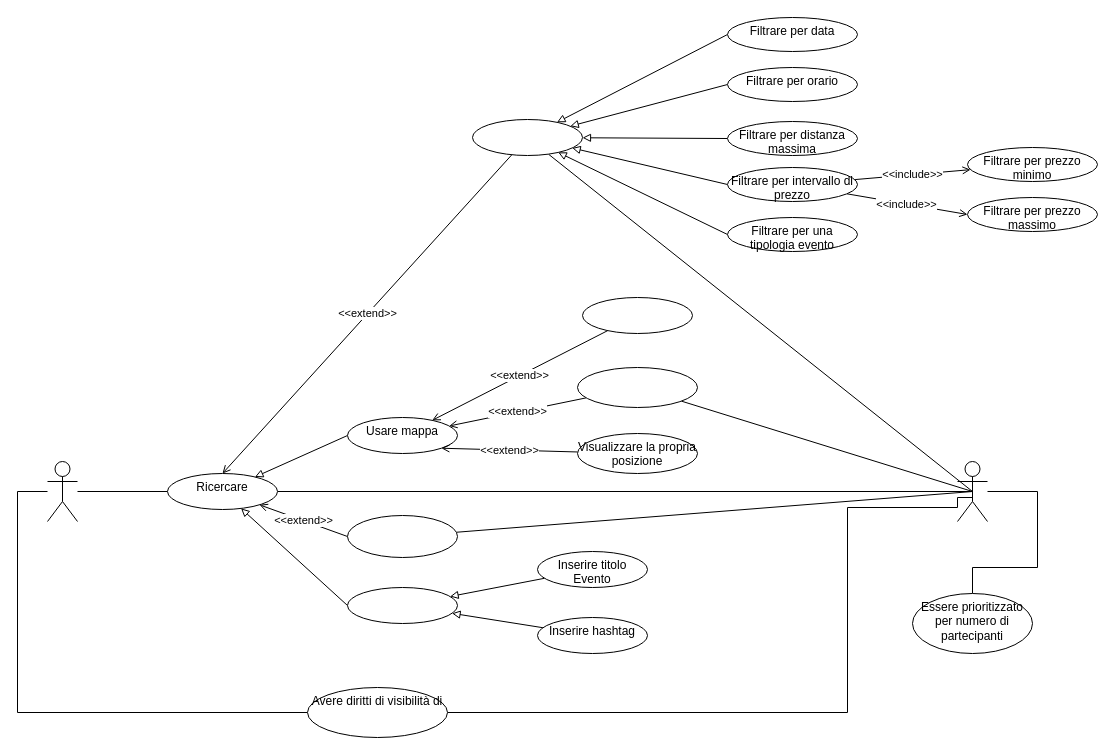
Image size: 1115x755. Some labels were removed from this diagram. The centre of each missing label's shape, as x and y in pixels:
"Evento" goes at pixel 972 491.
"Filtrare" goes at pixel 527 137.
"Ridimensionare mappa" goes at pixel 637 315.
"Usare barra di ricerca" goes at pixel 402 605.
"Utente" goes at pixel 62 491.
"Vedere in base a diritti di visibilità" goes at pixel 402 536.
"Visualizzare" goes at pixel 637 387.
